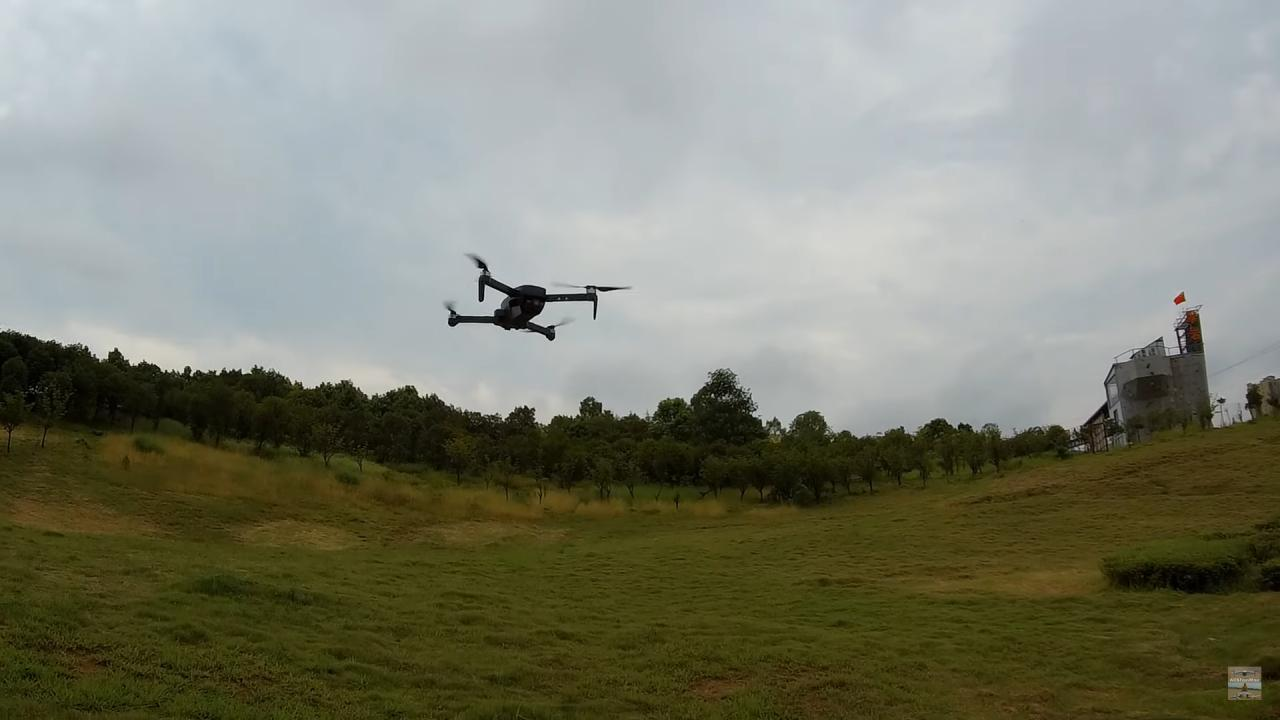Drone: (421, 237, 643, 361)
